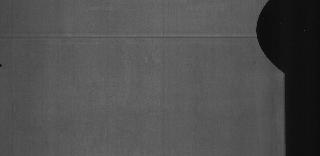welding line: (1, 32, 268, 44)
